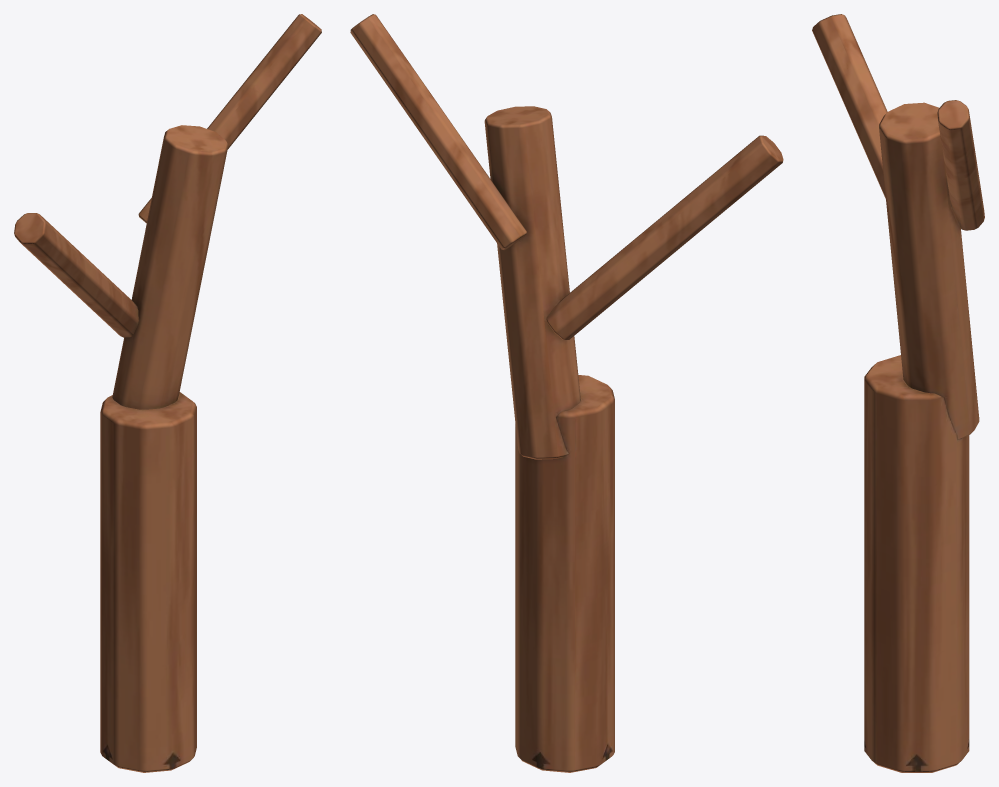
Rendered from dead_tree_trunk.glb.
The picture shows the model from 3 angles, left to right: view 1: azimuth 30°, elevation 25°; view 2: azimuth 150°, elevation 25°; view 3: azimuth 270°, elevation 25°; orthographic projection. The views are drawn at different scales.
Parts seen in each view (by area): view 1: DeadTreeTrunk; view 2: DeadTreeTrunk; view 3: DeadTreeTrunk.
Boxes of the visible parts, left/top/right/bottom form: DeadTreeTrunk: left=14, top=14, right=321, bottom=772; DeadTreeTrunk: left=350, top=14, right=783, bottom=772; DeadTreeTrunk: left=812, top=14, right=984, bottom=772.
Bounding box in the file's own units: 1.83 × 3.33 × 0.7033.
Materials: 1 (1 with a texture image).
